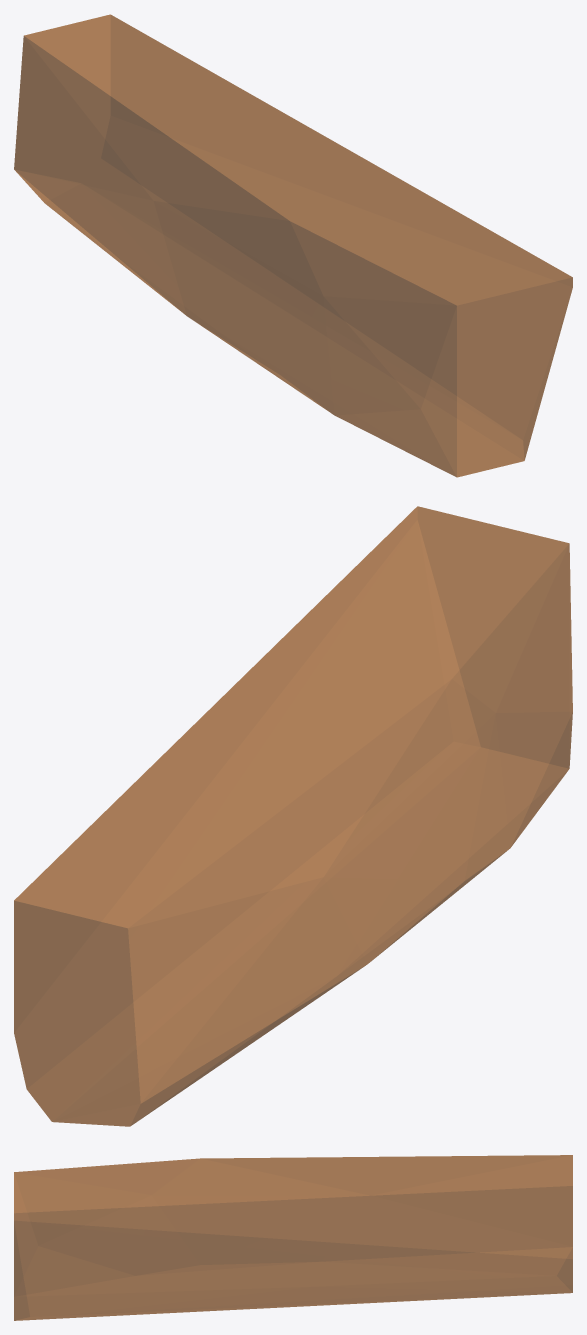
3 views of the same model, one above another, from view 1: azimuth 30°, elevation 25°; view 2: azimuth 150°, elevation 25°; view 3: azimuth 270°, elevation 25° (orthographic). The views are drawn at different scales.
Parts seen in each view (by area): view 1: Shape_IndexedFaceSet.023_Shape_IndexedFaceSet.7629; view 2: Shape_IndexedFaceSet.023_Shape_IndexedFaceSet.7629; view 3: Shape_IndexedFaceSet.023_Shape_IndexedFaceSet.7629.
Part boxes in pixels (box(x1,y1,x2,y2)): Shape_IndexedFaceSet.023_Shape_IndexedFaceSet.7629: box(14, 14, 572, 477); Shape_IndexedFaceSet.023_Shape_IndexedFaceSet.7629: box(14, 506, 572, 1126); Shape_IndexedFaceSet.023_Shape_IndexedFaceSet.7629: box(14, 1155, 572, 1320).
Bounding box in the file's own units: 0.0368 × 0.0347 × 0.141.
